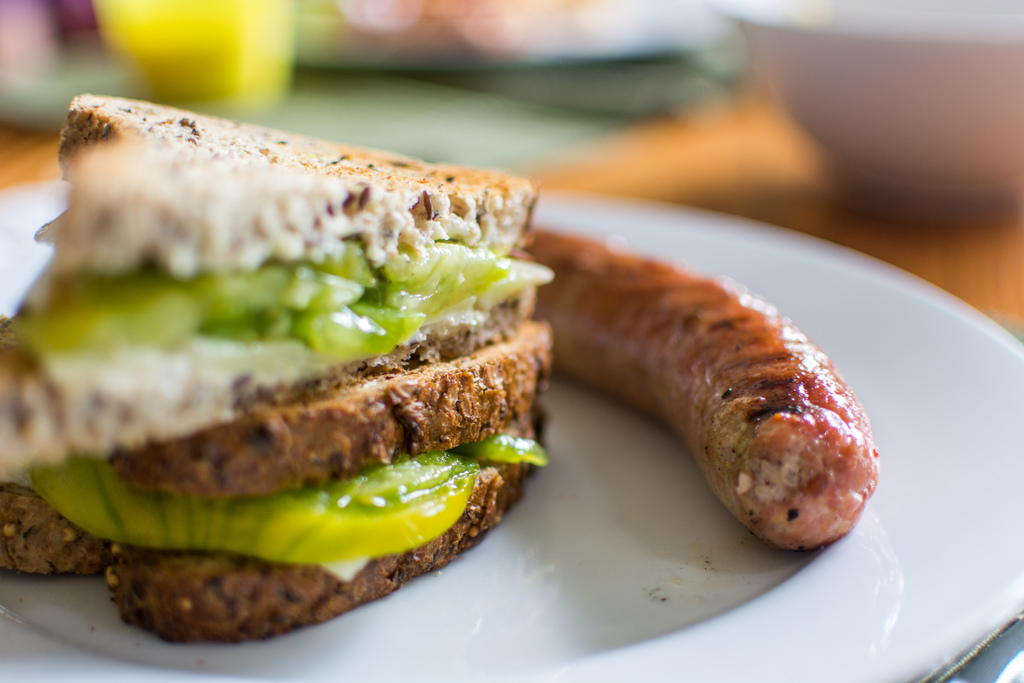sandwich: (0, 86, 556, 648)
